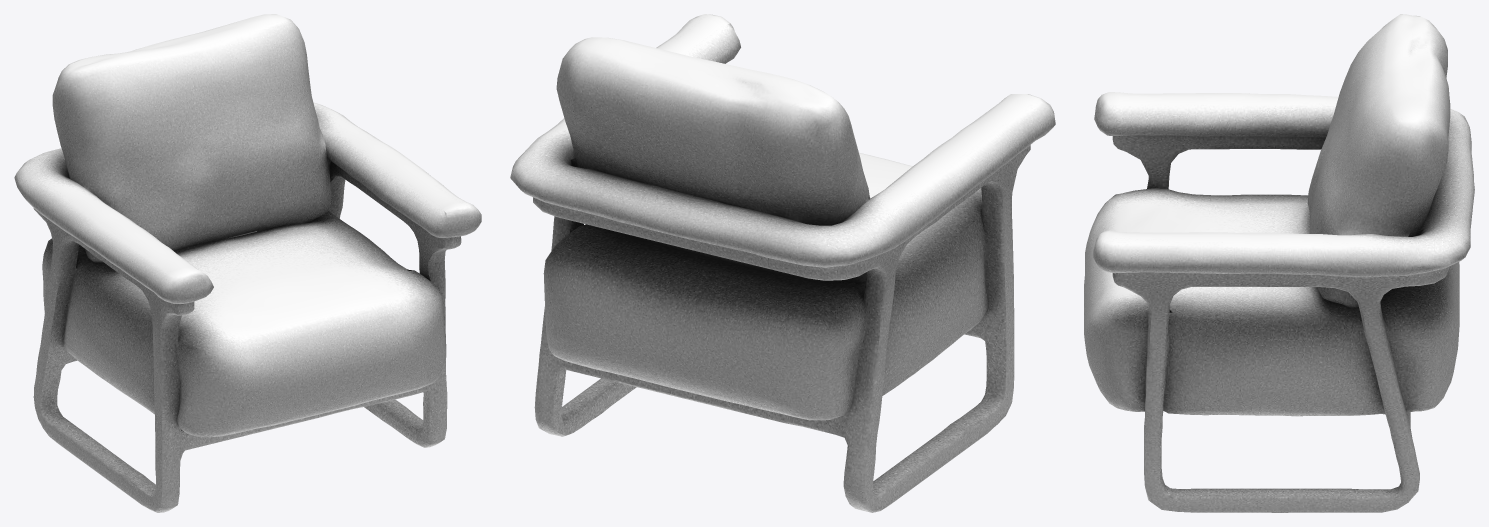
Rendered from tripo_node_7709dc39.glb.
The picture shows the model from 3 angles, left to right: view 1: azimuth 30°, elevation 25°; view 2: azimuth 150°, elevation 25°; view 3: azimuth 270°, elevation 25°; orthographic projection. The views are drawn at different scales.
Visible parts, largest first — view 1: tripo_node_7709dc39; view 2: tripo_node_7709dc39; view 3: tripo_node_7709dc39.
Part boxes in pixels (x1,y1,x2,y2): tripo_node_7709dc39: [14, 14, 481, 512]; tripo_node_7709dc39: [510, 14, 1055, 512]; tripo_node_7709dc39: [1084, 14, 1474, 512].
Size of the model in its own units: 0.8873 by 0.9427 by 0.8854.
2 materials, 2 textured.
